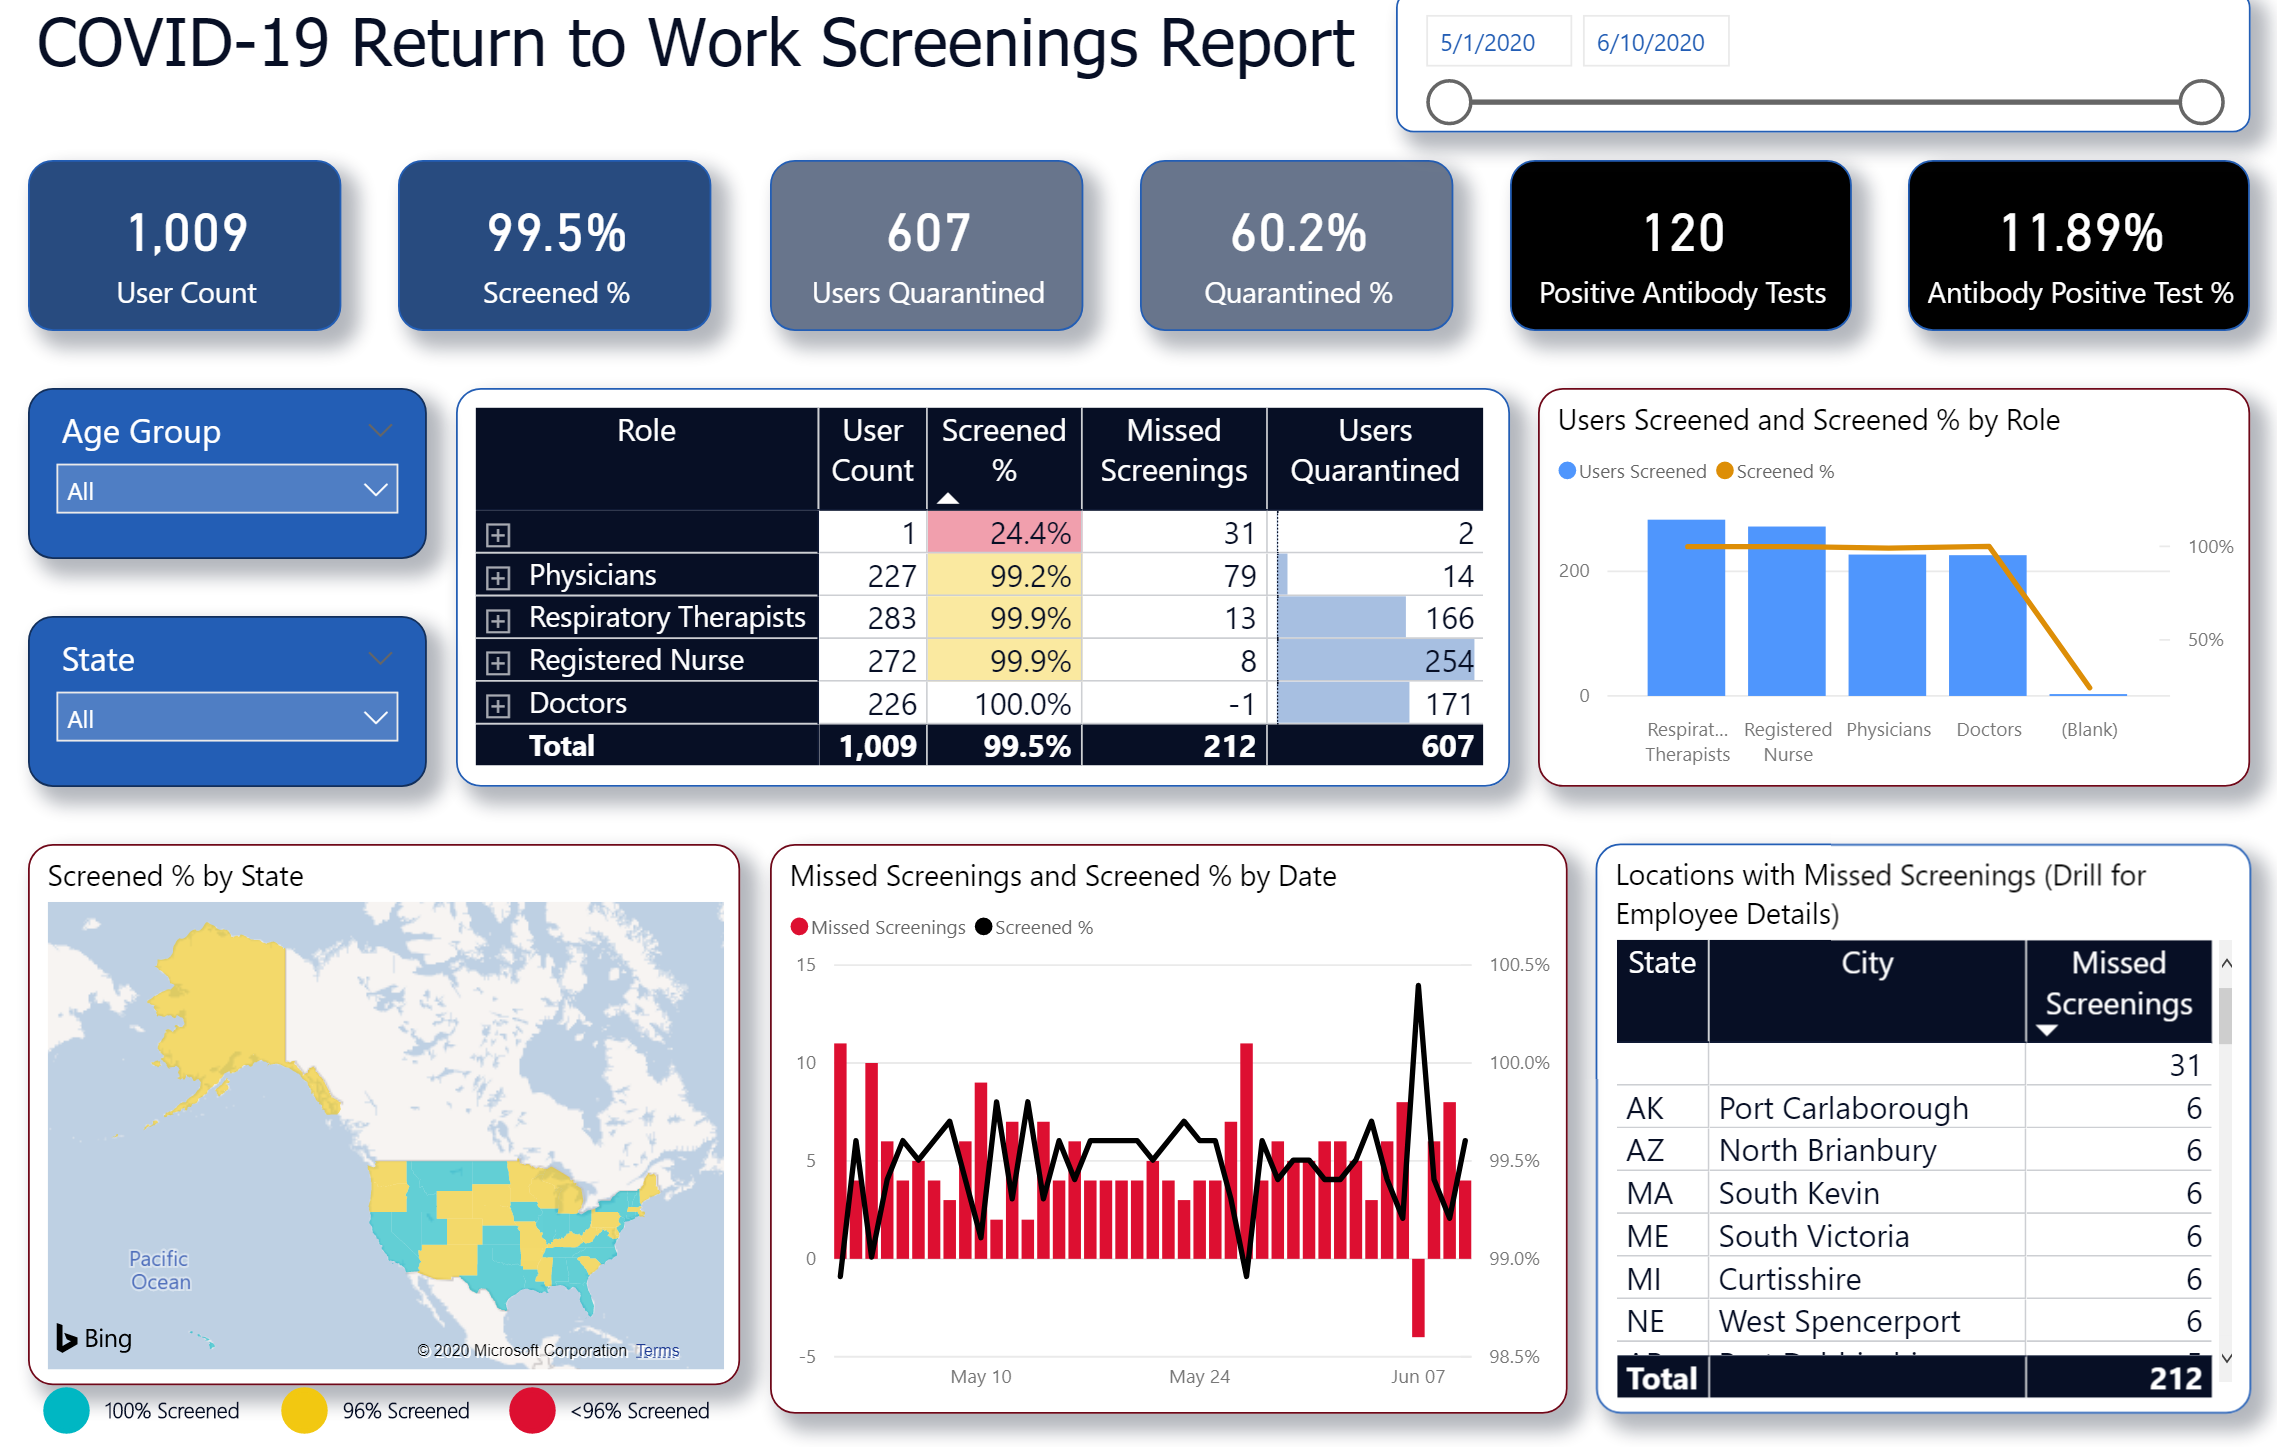

What the dashboard file says about the page in this screenshot:
{"tool":"powerbi","page":{"name":"Screenings","canvas":[1280,820],"ordinal":1},"visuals":[{"type":"lineStackedColumnComboChart","fields":{"Y":["Calculations.Users Screened","Calculations.Missed Screenings"],"Category":["Date.Date"],"Y2":["Calculations.Screened %"]},"box":[432,448,464,352],"z":0},{"type":"filledMap","fields":{"Category":["UserInfo.State","UserInfo.ZipCode"]},"box":[16,448,400,336],"z":1000},{"type":"basicShape","box":[21.4,781.5,32,32],"z":2000},{"type":"basicShape","box":[155,781.5,32,32],"z":3000},{"type":"basicShape","box":[283,781.5,32,32],"z":4000},{"type":"textbox","box":[53.4,781.5,112,32],"z":5000},{"type":"textbox","box":[187,781.5,112,32],"z":6000},{"type":"textbox","box":[315,781.5,112,32],"z":7000},{"type":"lineStackedColumnComboChart","fields":{"Y":["Calculations.Users Screened"],"Y2":["Calculations.Screened %"],"Category":["UserInfo.Role"]},"box":[864,208,400,224],"z":8000},{"type":"textbox","box":[192,0,1072,80],"z":9000},{"type":"pivotTable","fields":{"Values":["Calculations.User Count","Calculations.Screened %","Calculations.Missed Screenings","Calculations.Users Quarantined"],"Rows":["UserInfo.Role","UserInfo.State","UserInfo.ZipCode"]},"box":[256,208,592,224],"z":10000},{"type":"slicer","fields":{"Values":["Age Groups.Age Group"]},"box":[16,208,224,96],"z":11000},{"type":"slicer","fields":{"Values":["UserInfo.State"]},"box":[16,336,224,96],"z":12000},{"type":"pivotTable","title":"Locations with Missed Screenings (Drill for Employee Details)","fields":{"Values":["Calculations.Missed Screenings"],"Rows":["UserInfo.State"]},"box":[912,448,352,352],"z":13000},{"type":"card","fields":{"Values":["Calculations.User Count"]},"box":[16,80,176,96],"z":14000},{"type":"card","fields":{"Values":["Calculations.Users Quarrantined"]},"box":[432,80,176,96],"z":15000},{"type":"card","fields":{"Values":["Calculations.Screened %"]},"box":[224,80,176,96],"z":16000},{"type":"card","fields":{"Values":["Calculations.Quarantined %"]},"box":[640,80,176,96],"z":17000},{"type":"card","fields":{"Values":["Calculations.Positive Antibody %"]},"box":[1072,80,192,96],"z":18000},{"type":"card","fields":{"Values":["Calculations.Positive Antibody Tests"]},"box":[848,80,192,96],"z":19000}]}

Visuals, with their boxes in screenshot pixels (x1, y1, x2, y2), scaled from the page's 1280x820 canvas onto the 2277x1447 screenshot:
lineStackedColumnComboChart - Calculations.Users Screened x Calculations.Missed Screenings: <bbox>768, 791, 1594, 1412</bbox>
filledMap - UserInfo.State x UserInfo.ZipCode: <bbox>28, 791, 740, 1383</bbox>
basicShape: <bbox>38, 1379, 95, 1436</bbox>
basicShape: <bbox>276, 1379, 333, 1436</bbox>
basicShape: <bbox>503, 1379, 560, 1436</bbox>
textbox: <bbox>95, 1379, 294, 1436</bbox>
textbox: <bbox>333, 1379, 532, 1436</bbox>
textbox: <bbox>560, 1379, 760, 1436</bbox>
lineStackedColumnComboChart - Calculations.Users Screened x Calculations.Screened %: <bbox>1537, 367, 2249, 762</bbox>
textbox: <bbox>342, 0, 2249, 141</bbox>
pivotTable - Calculations.User Count x Calculations.Screened %: <bbox>455, 367, 1509, 762</bbox>
slicer - Age Groups.Age Group: <bbox>28, 367, 427, 536</bbox>
slicer - UserInfo.State: <bbox>28, 593, 427, 762</bbox>
"Locations with Missed Screenings (Drill for Employee Details)" pivotTable: <bbox>1622, 791, 2249, 1412</bbox>
card - Calculations.User Count: <bbox>28, 141, 342, 311</bbox>
card - Calculations.Users Quarrantined: <bbox>768, 141, 1082, 311</bbox>
card - Calculations.Screened %: <bbox>398, 141, 712, 311</bbox>
card - Calculations.Quarantined %: <bbox>1138, 141, 1452, 311</bbox>
card - Calculations.Positive Antibody %: <bbox>1907, 141, 2249, 311</bbox>
card - Calculations.Positive Antibody Tests: <bbox>1509, 141, 1850, 311</bbox>
